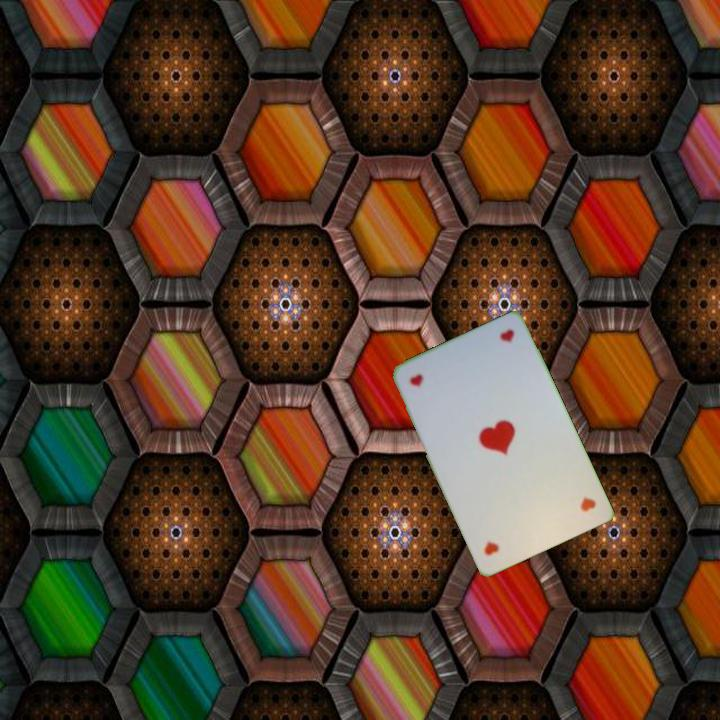h_a.png: (399, 347, 482, 426), (519, 461, 602, 540)
